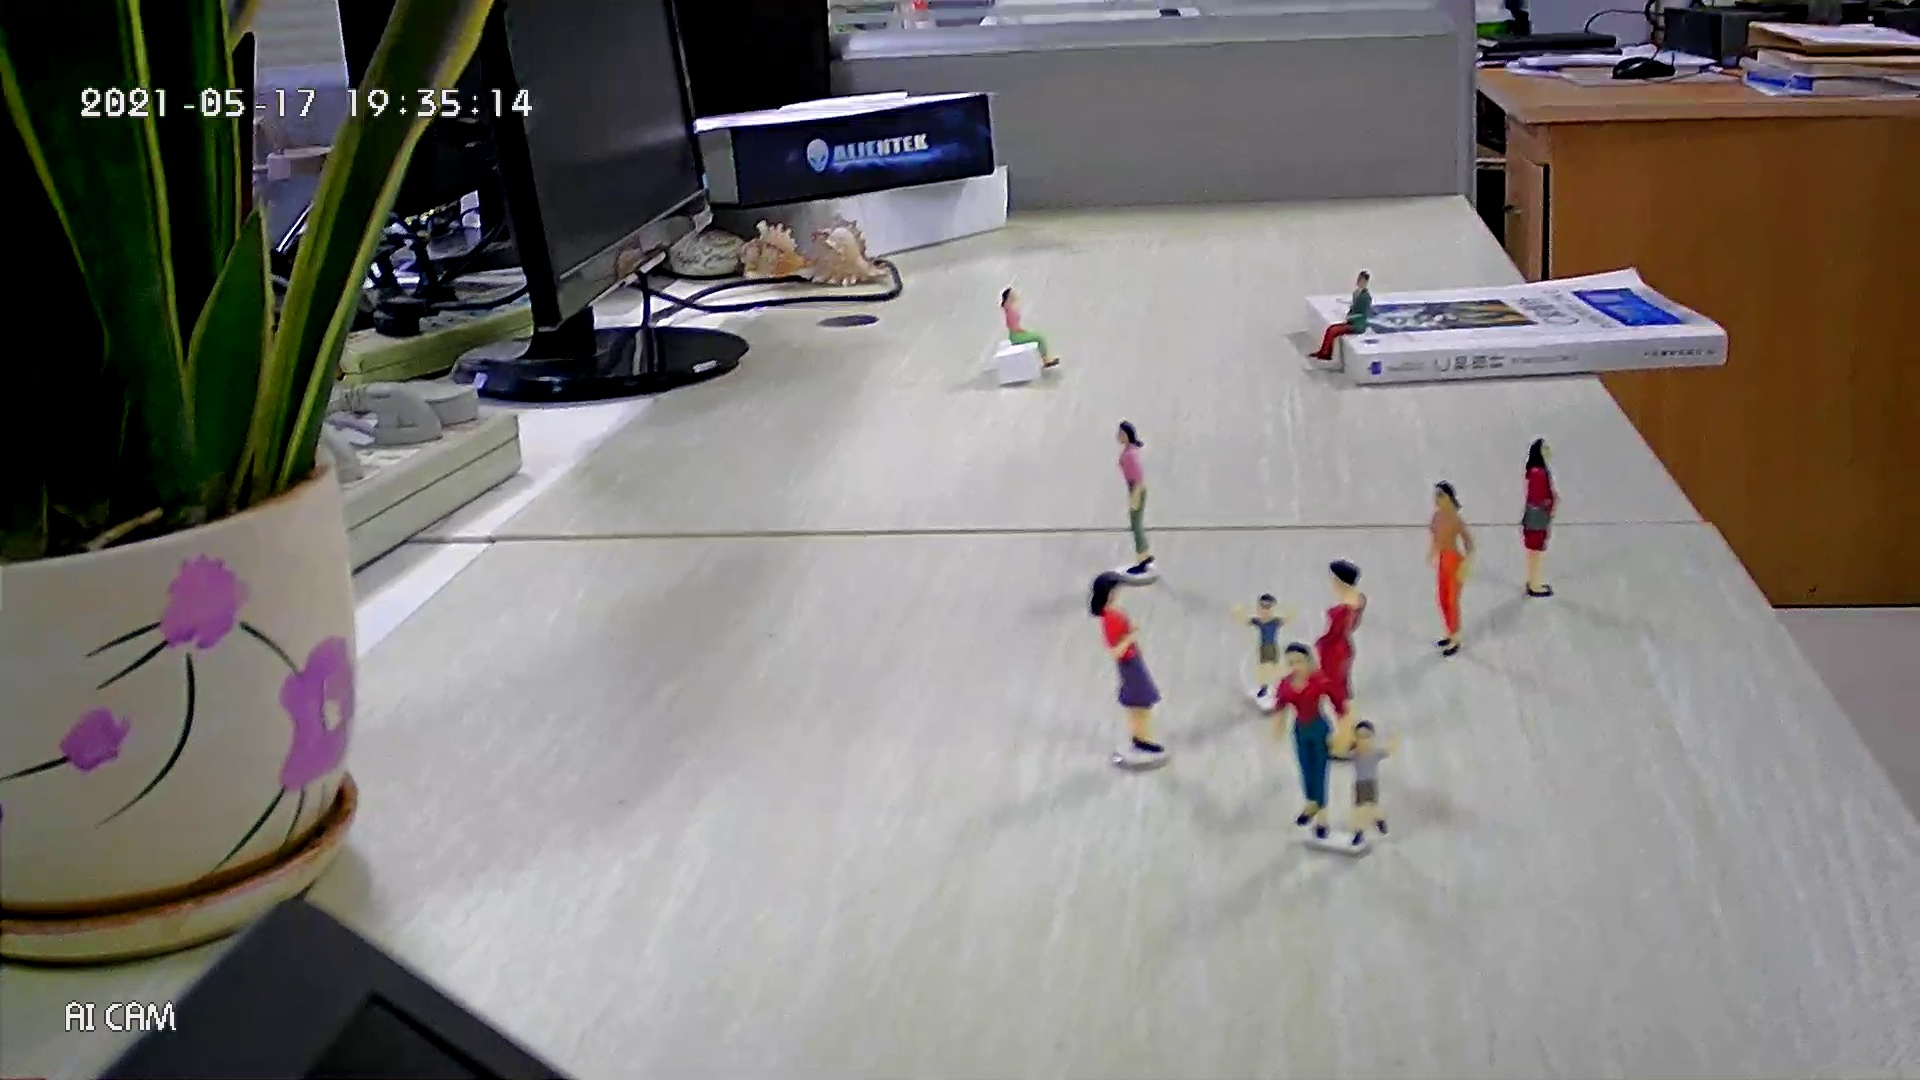person: (1270, 641, 1351, 839), (1085, 570, 1167, 754), (1325, 718, 1402, 849), (1422, 479, 1477, 657), (1315, 558, 1362, 753), (1225, 591, 1298, 699), (1112, 418, 1160, 575), (1305, 268, 1375, 362), (1521, 436, 1560, 598), (998, 284, 1065, 368)
